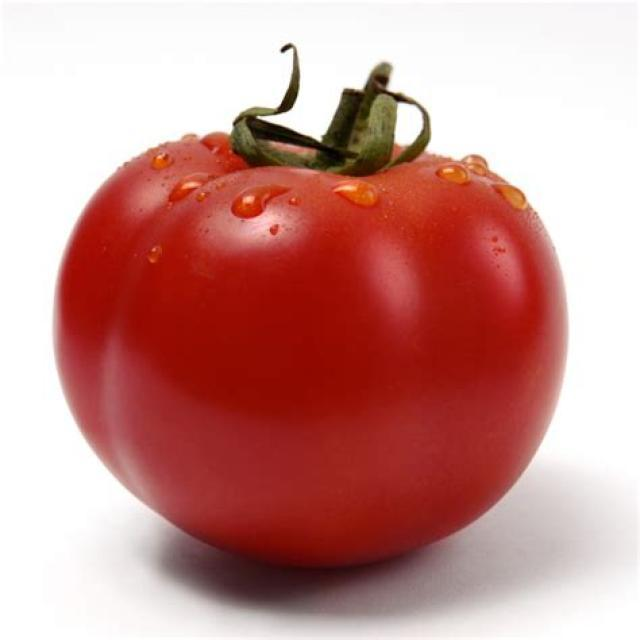Tomato: (52, 46, 571, 574)
